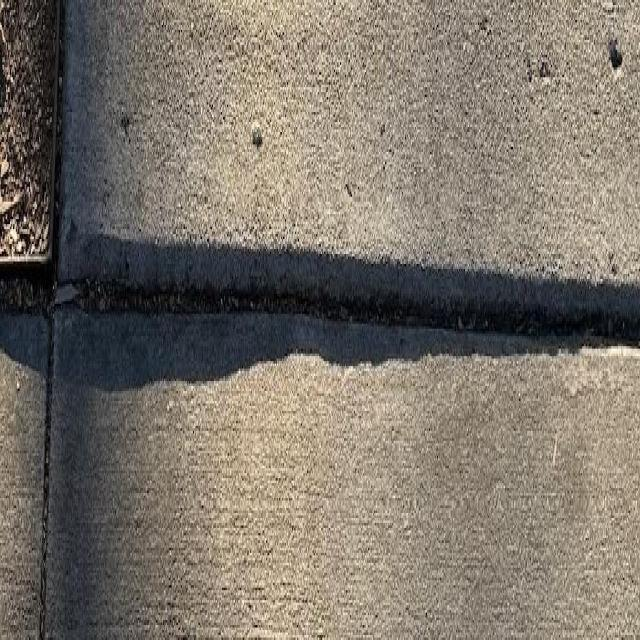bump: (43, 118, 640, 422)
